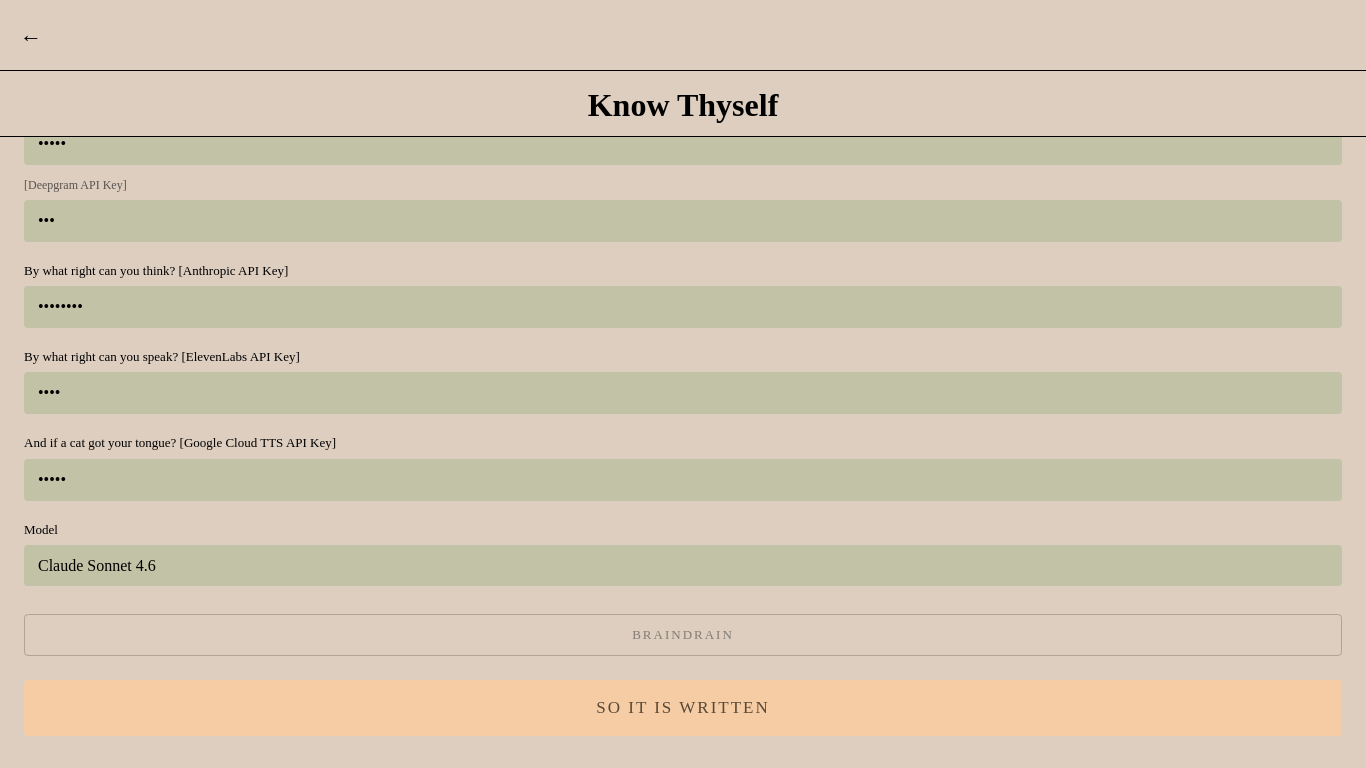
BRAINDRAIN › wipes both the history and the summary when confirmed
(page scrolled)
Click the button "BRAINDRAIN": (683, 635) [24, 614, 1342, 656]
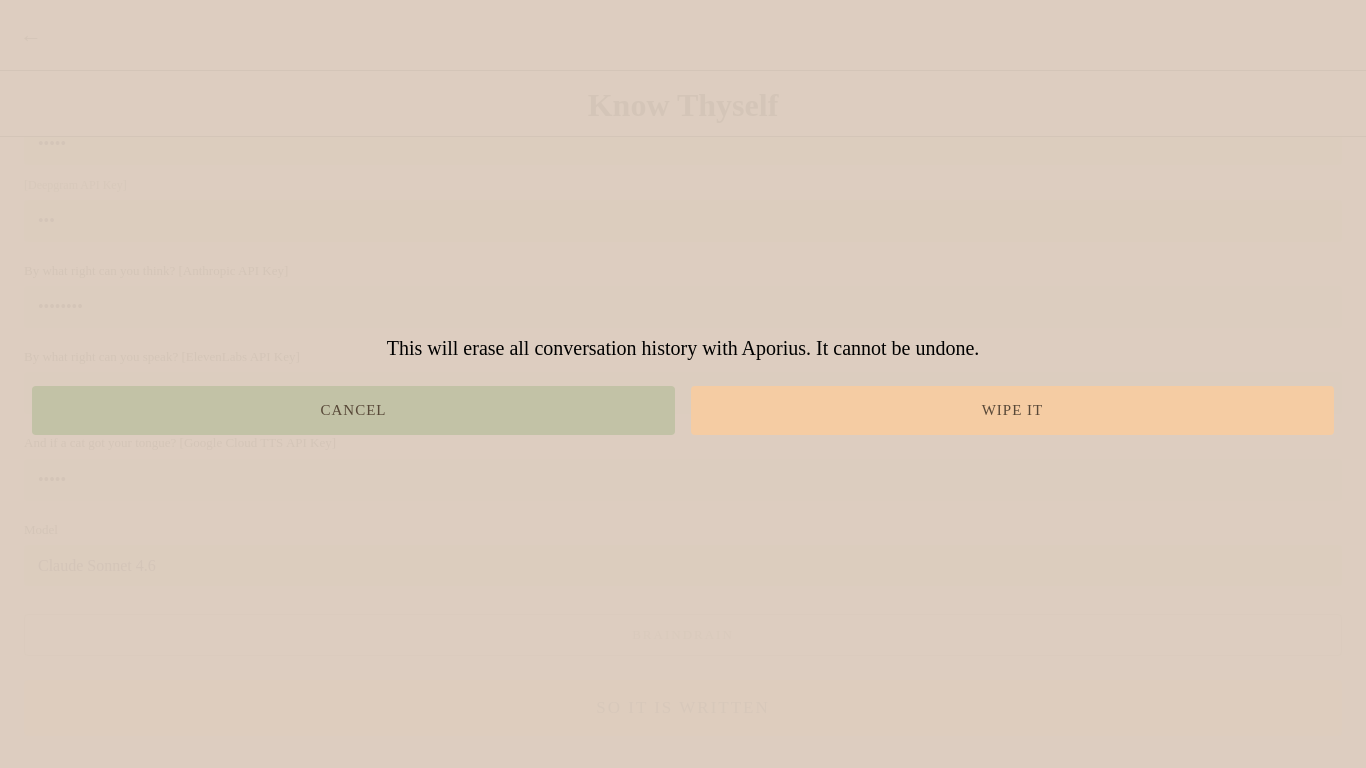
Click the button "WIPE IT": (1012, 410) [691, 386, 1334, 434]
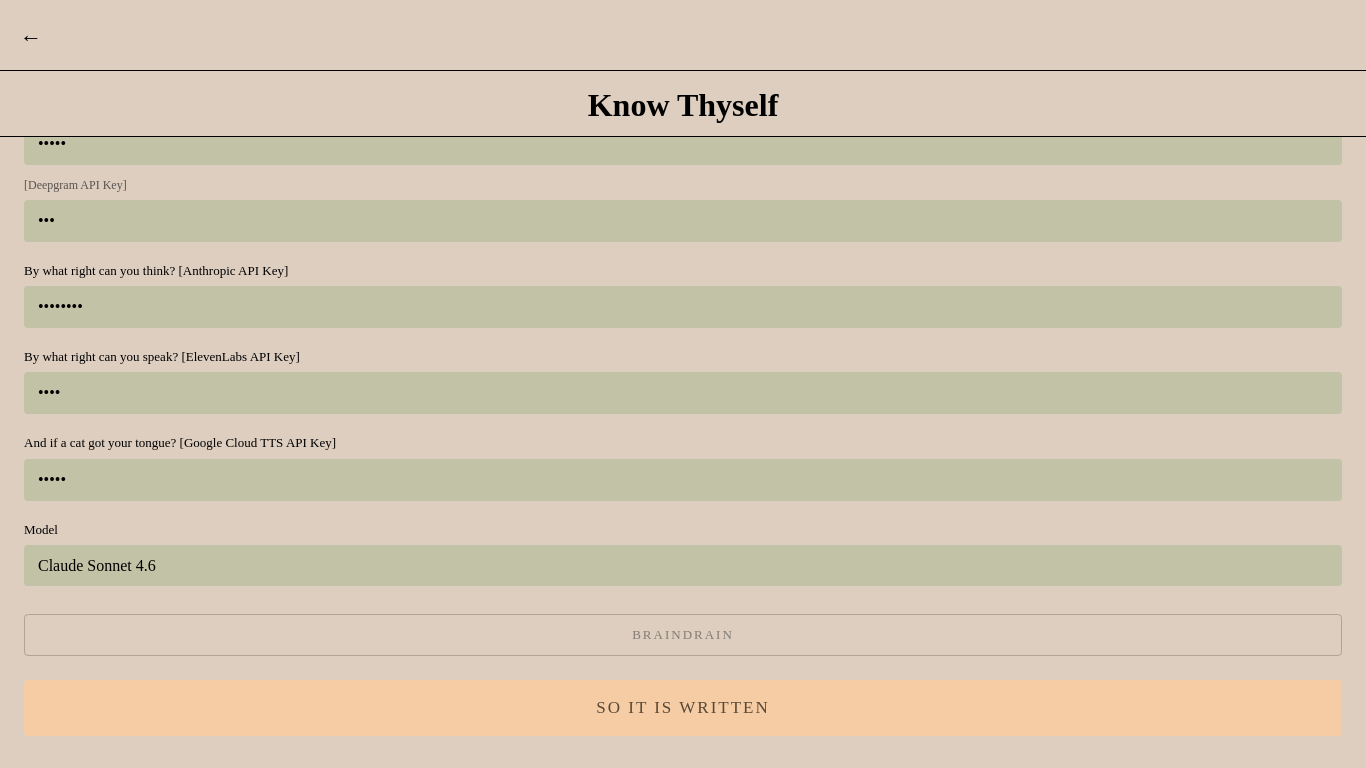
Result: the text "It cannot be undone" is gone
